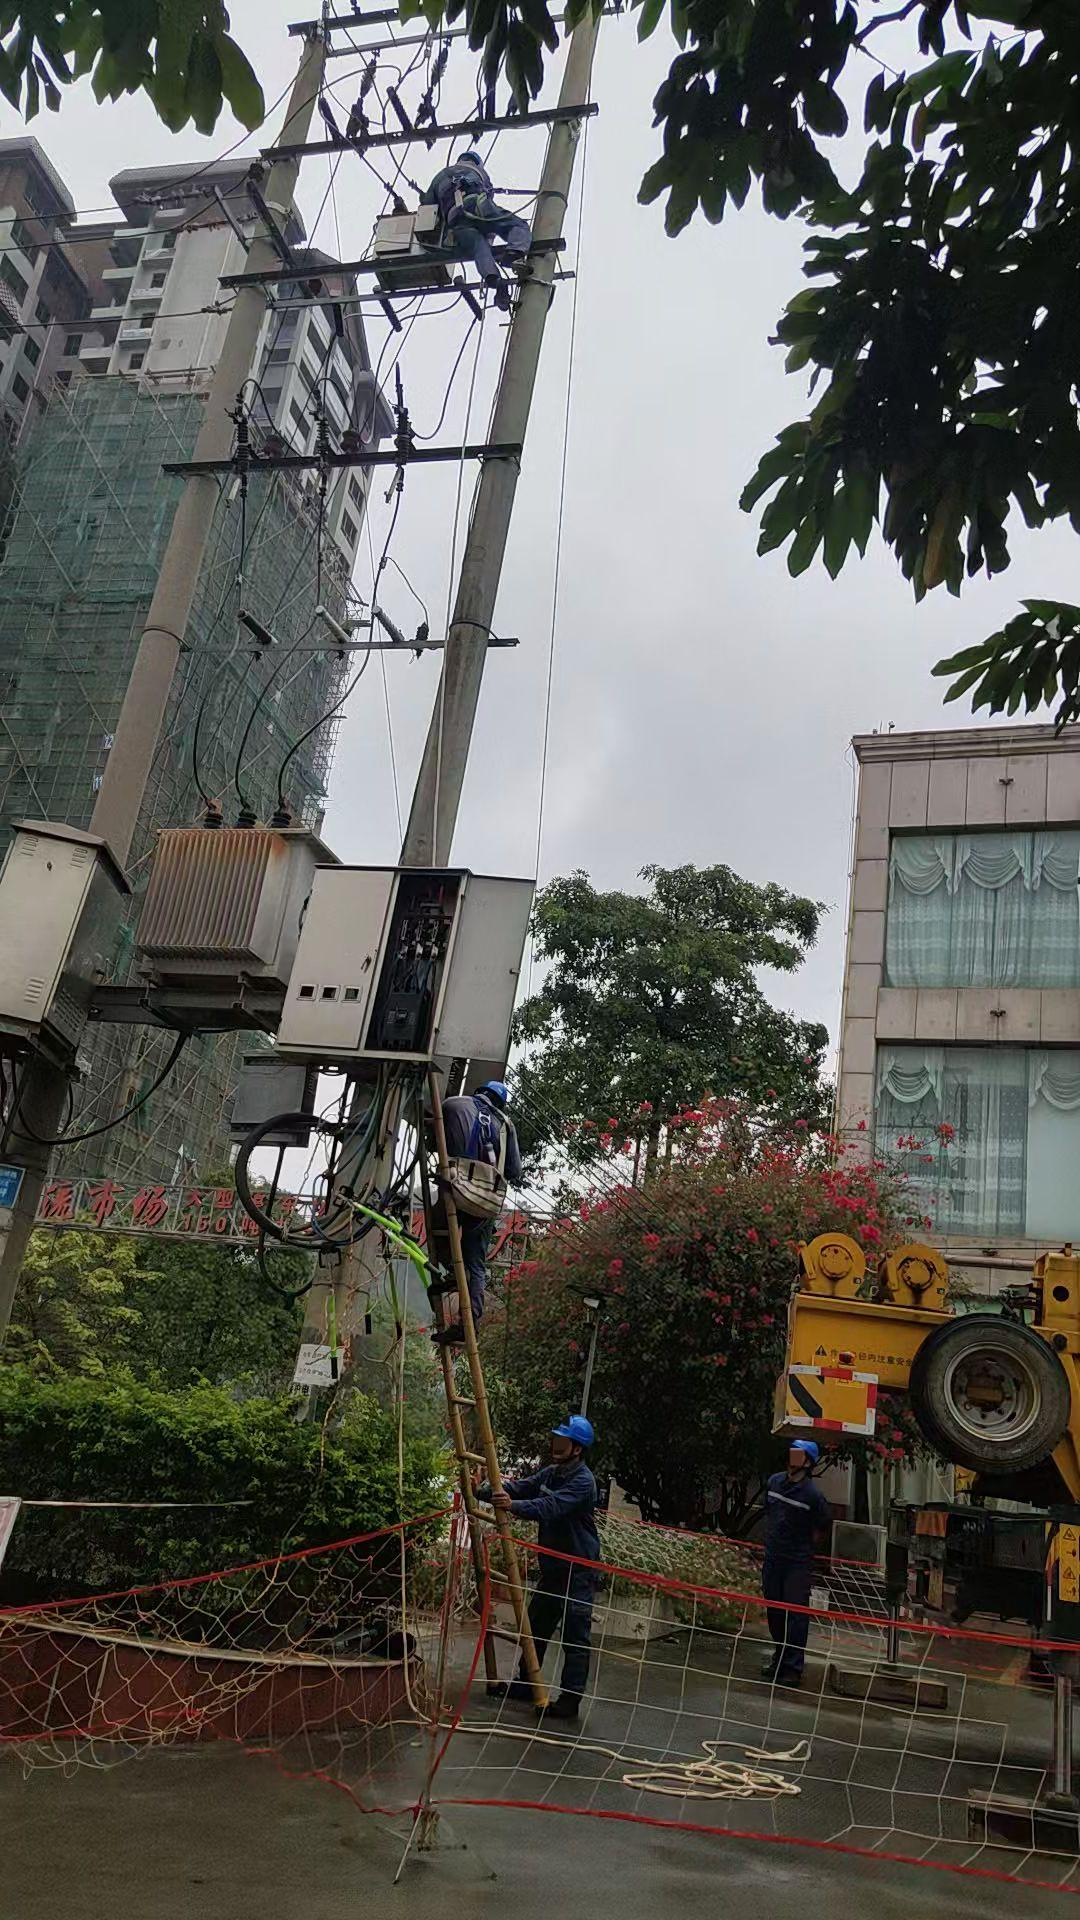halt: (553, 1416, 599, 1464), (787, 1440, 823, 1477), (480, 1080, 512, 1110)
inear: (571, 1441, 587, 1458)
